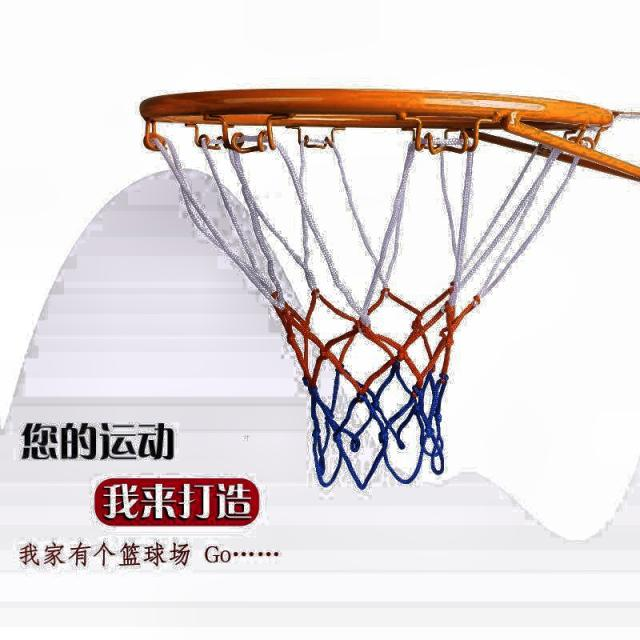rim: (140, 87, 612, 486)
